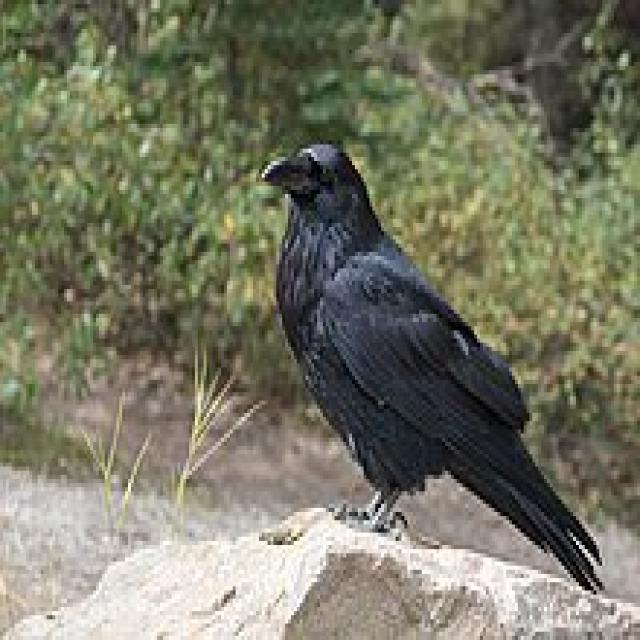crow: (262, 145, 393, 401)
